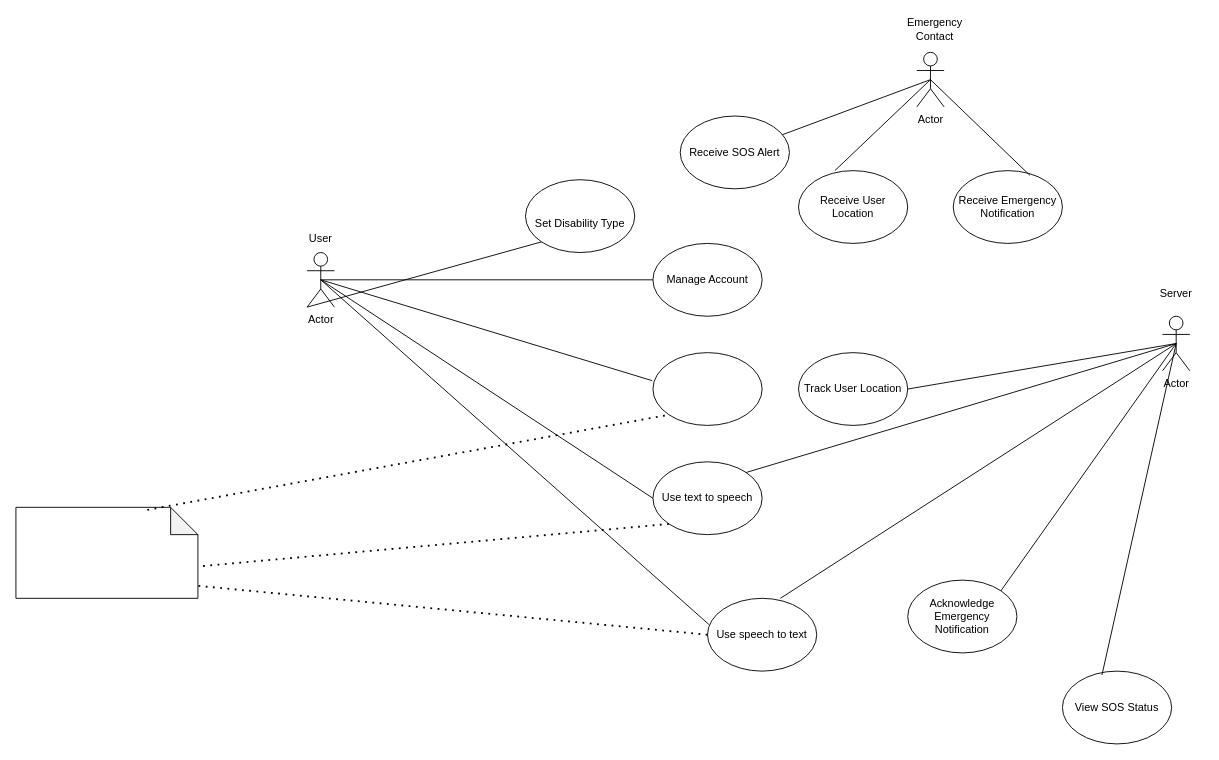
The diagram is 1219 pixels wide and 760 high, and some of its shapes have lost their labels. The shapes that lost their labels are listed below. From the top down, each one's centre as x and y in pixels, then its label:
At point (707, 388): "send text message/ send voice message".
At point (106, 552): "The system adapts the communication method based on the user's disability type".
